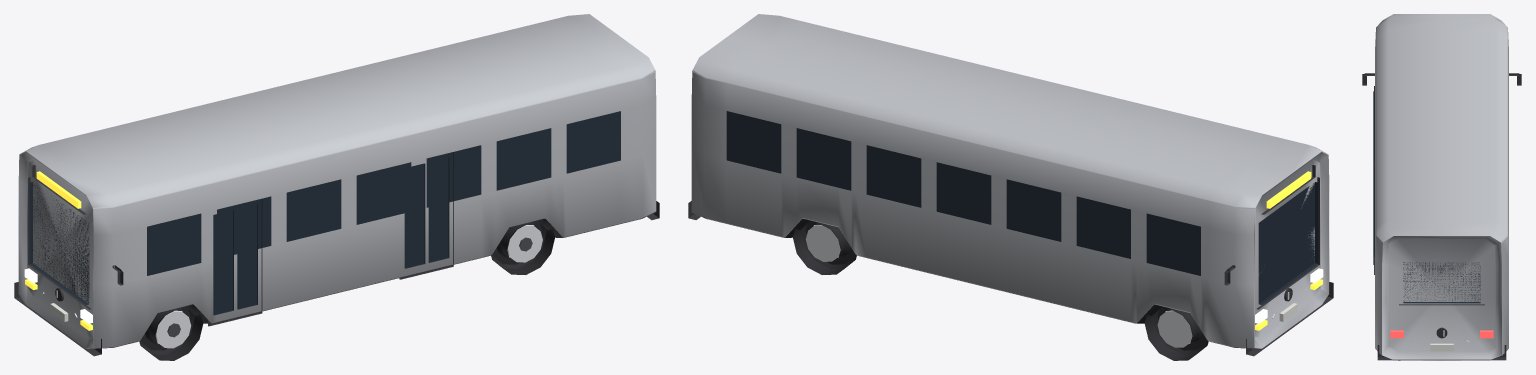
The model's file is bus_fleet.glb.
3 renders of one model, left to right at view 1: azimuth 30°, elevation 25°; view 2: azimuth 150°, elevation 25°; view 3: azimuth 270°, elevation 25°, orthographic. The views are drawn at different scales.
Size of the model in its own units: 1.9 by 0.5709 by 0.5747.
